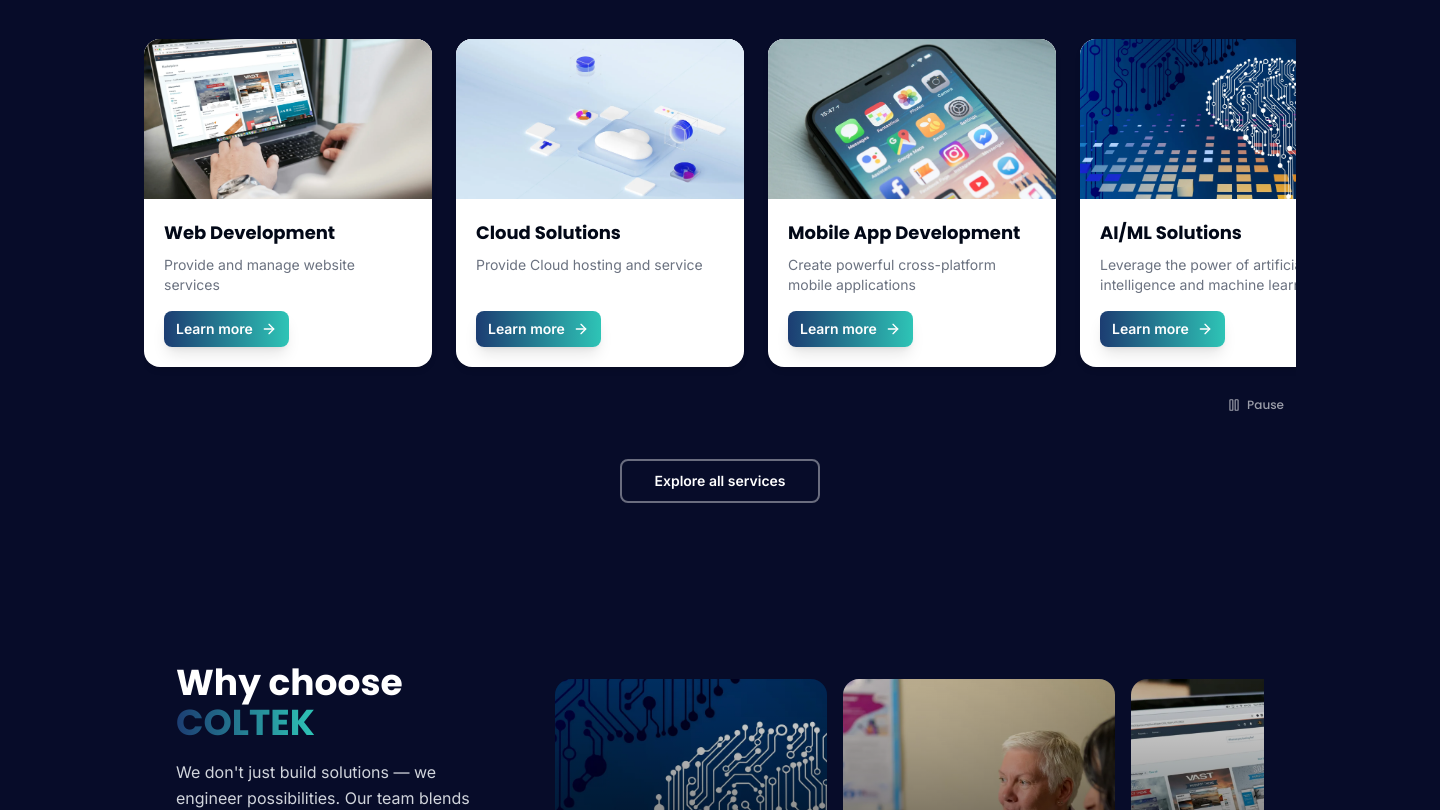
Test case: Home — marquee rails › offers a pause control that toggles the animation
(page scrolled)
Click the button with aria-label "pause our services": (1256, 405) top-left (1215, 391), bottom-right (1296, 419)
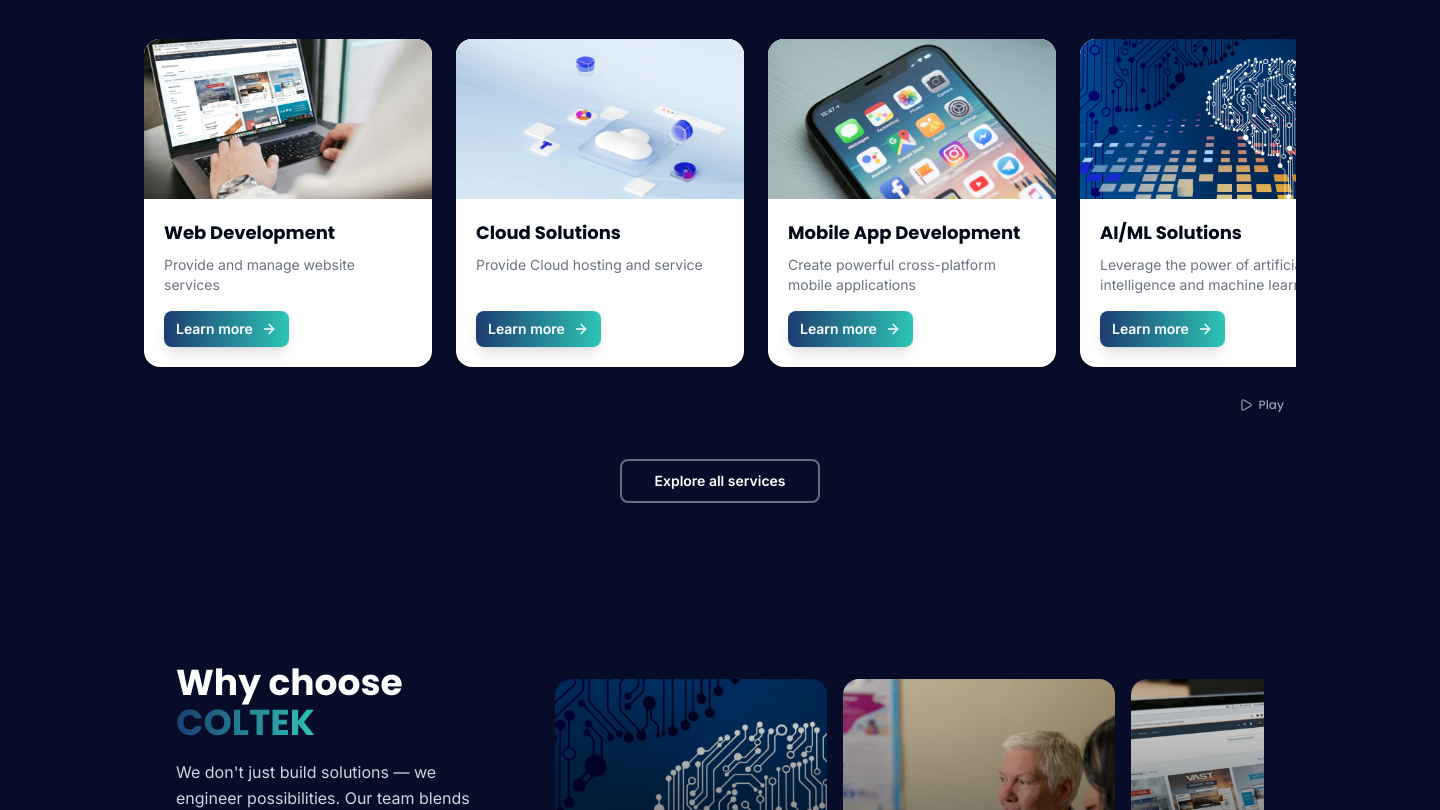
Expected: the button with aria-label "play our services" is pressed, top-left (1227, 391), bottom-right (1296, 419)
